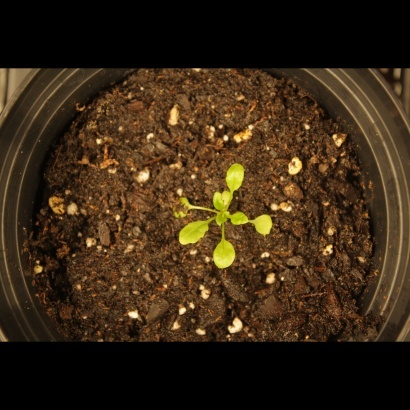leaf: (209, 238, 240, 275), (175, 220, 211, 250), (223, 160, 251, 191), (252, 207, 279, 238), (169, 193, 196, 220), (229, 207, 252, 230), (212, 186, 235, 209), (208, 207, 231, 230)
